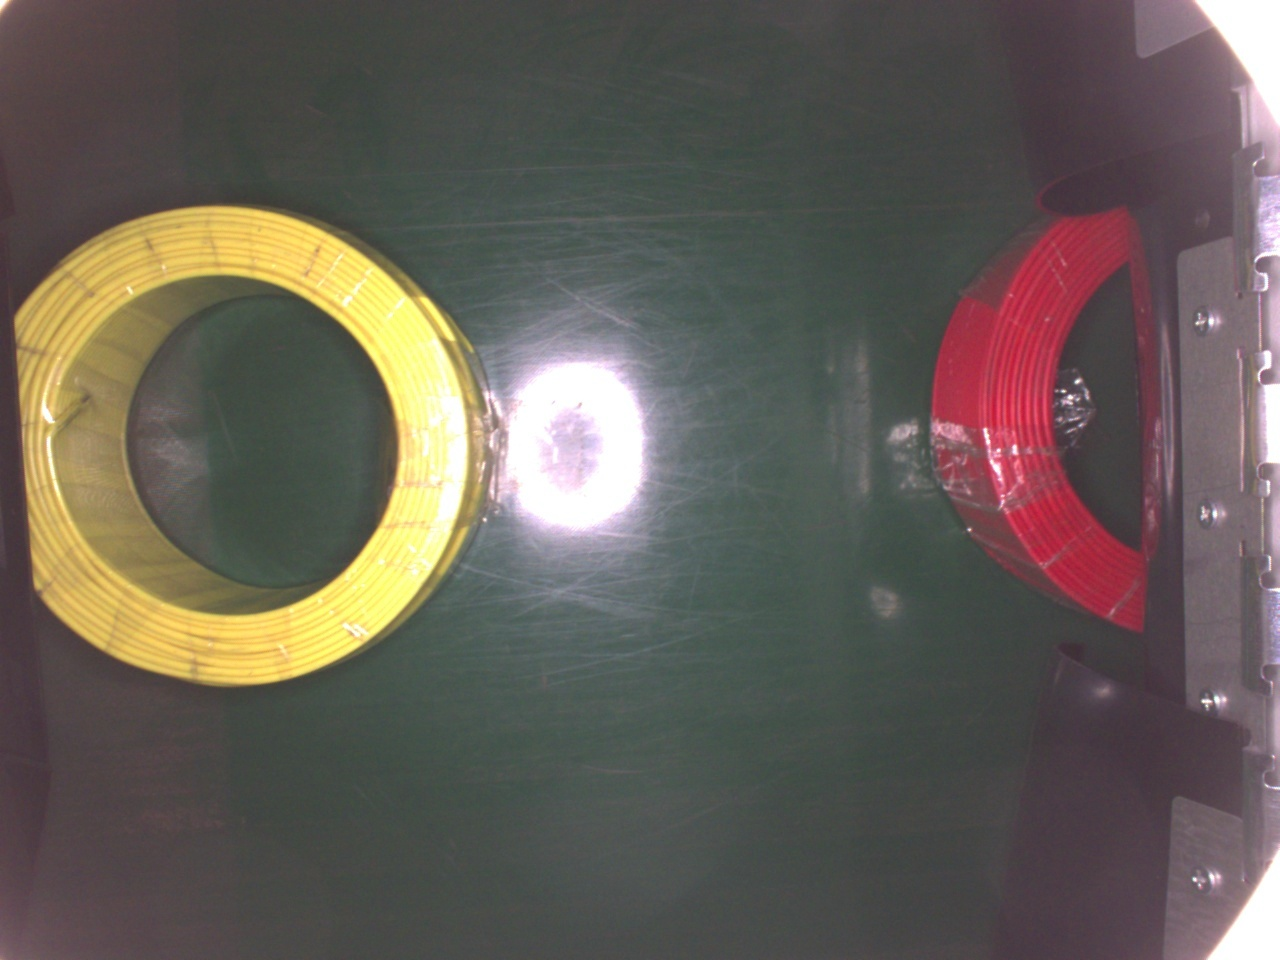red: (928, 209, 1147, 635)
yellow: (10, 202, 497, 685)
